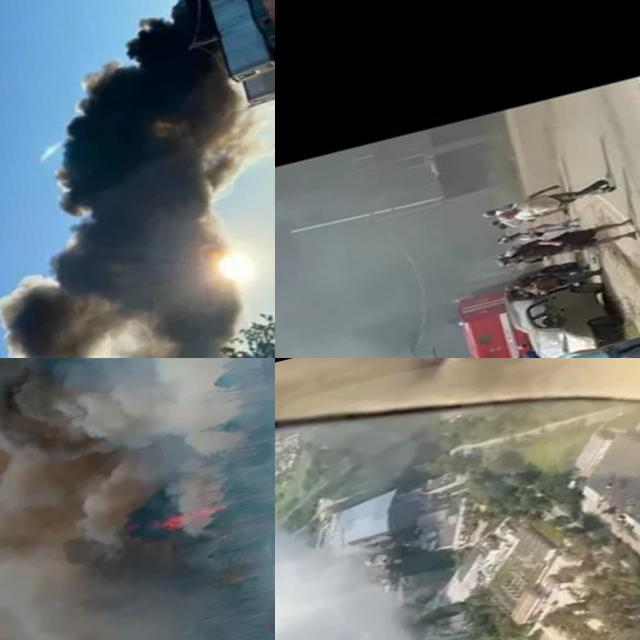smoke: (0, 0, 275, 358), (0, 358, 251, 640), (275, 121, 535, 358), (275, 463, 490, 640)
